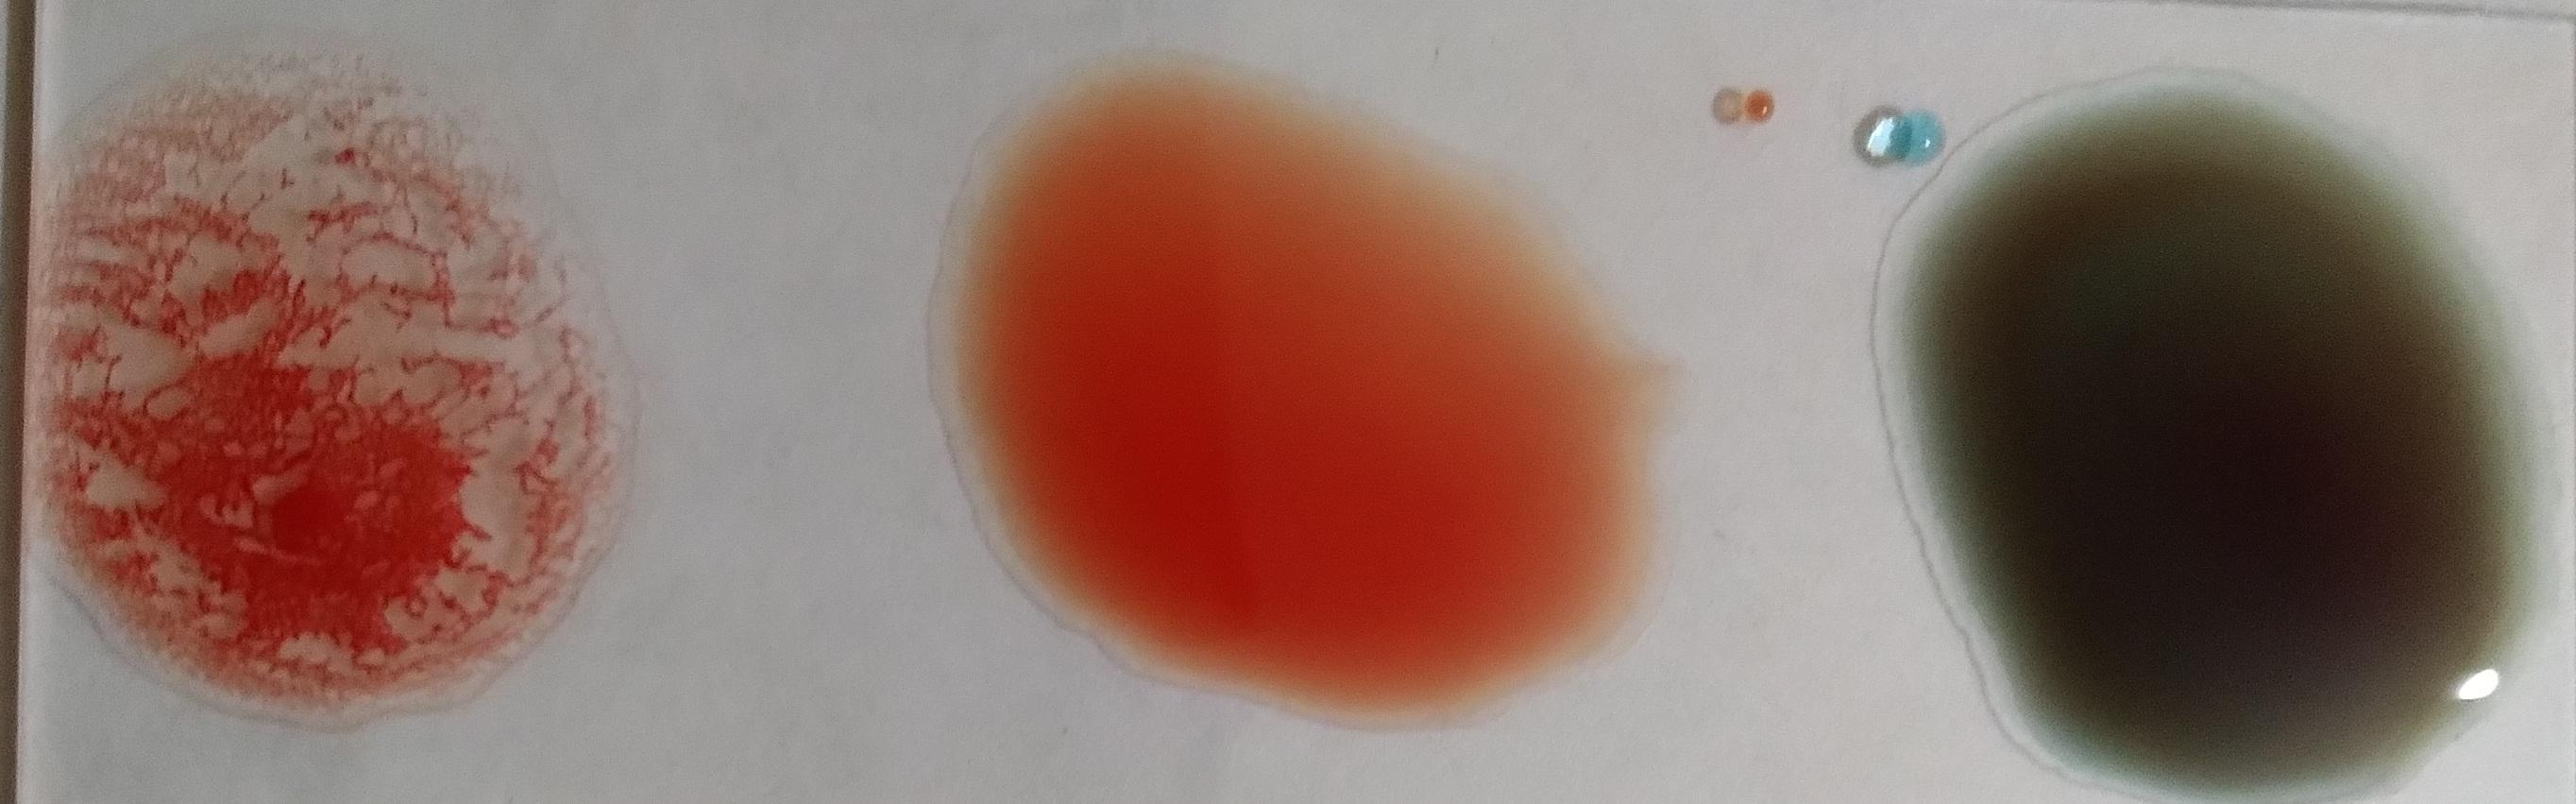D: (46, 92, 591, 717)
